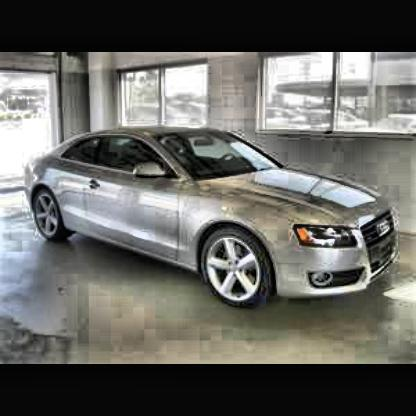Audi A5 Coupe 2012: (25, 128, 400, 315)
